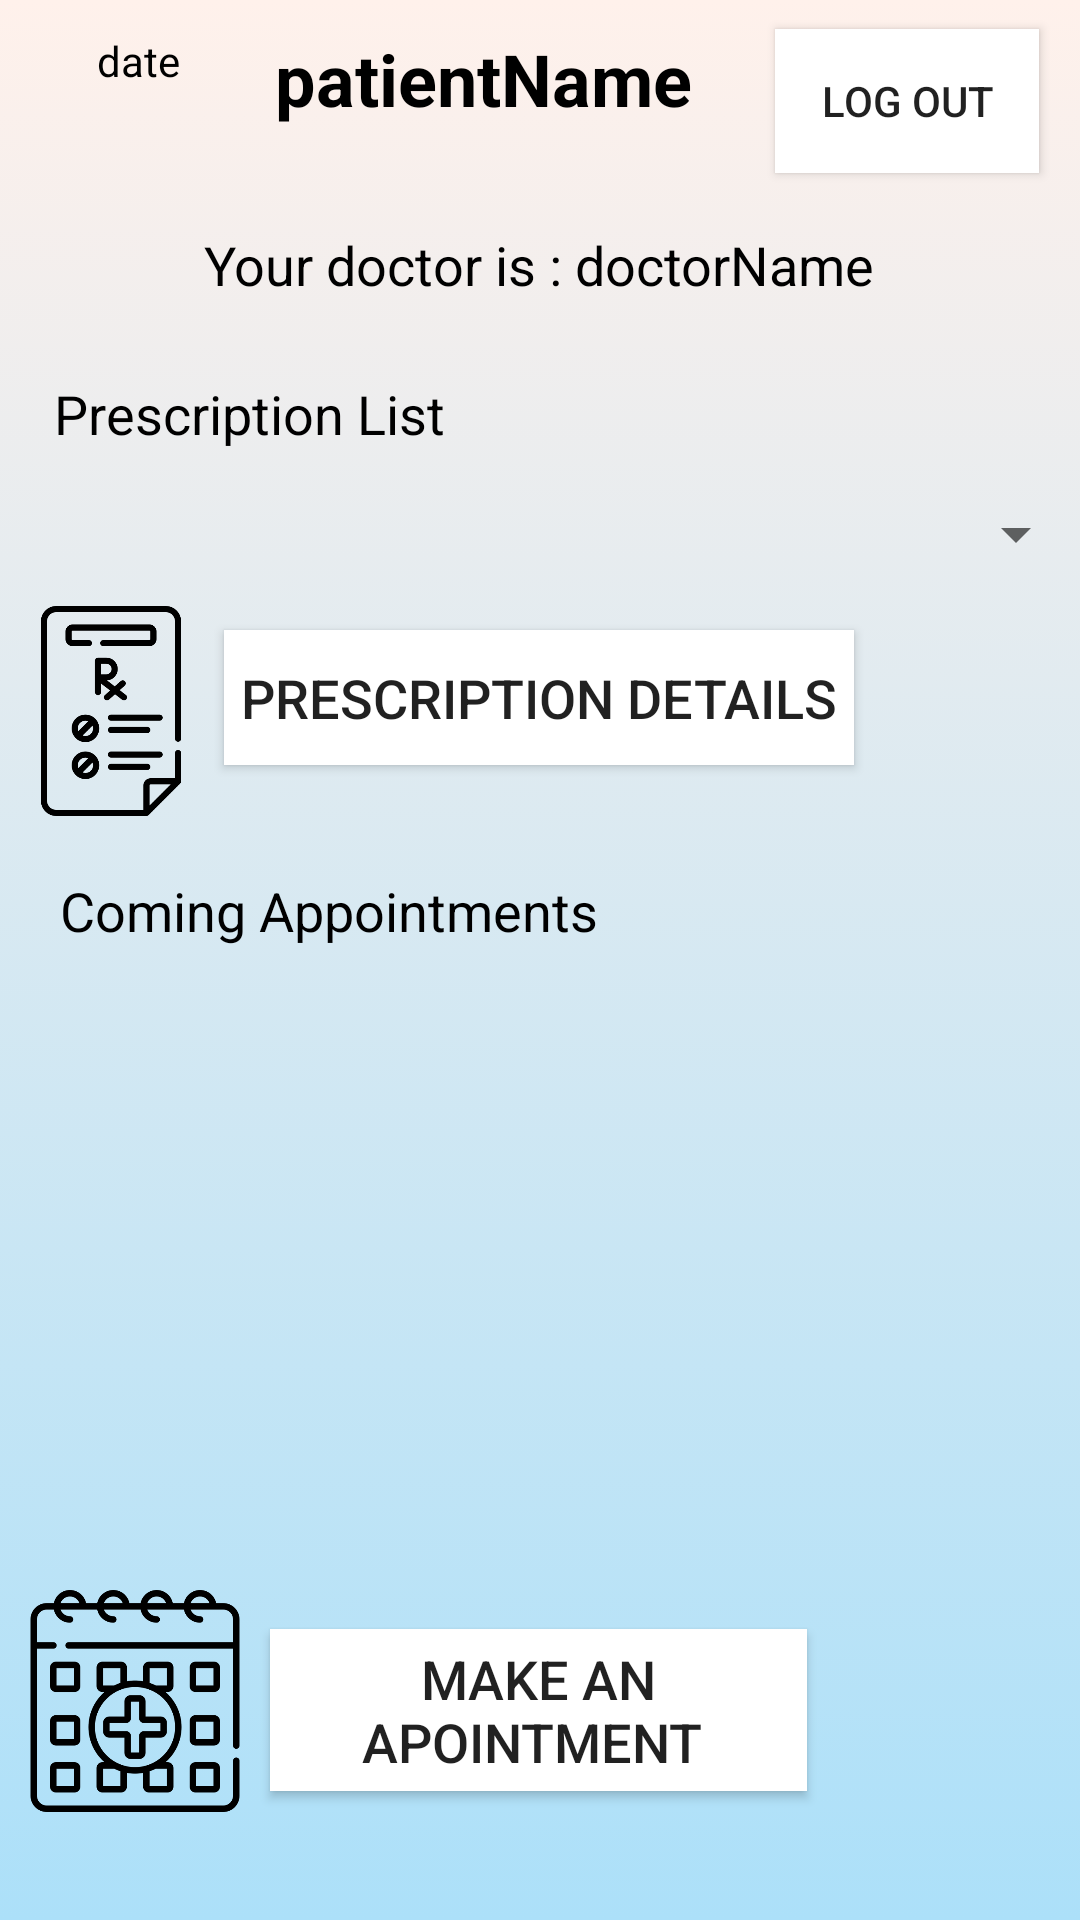

Where icons sit on this 1080 x 1920 app screen, as (x1, y1, x2, y2):
calendar: (30, 1590, 240, 1812)
